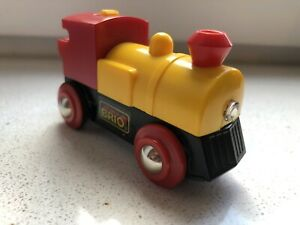brio: (52, 8, 251, 193)
